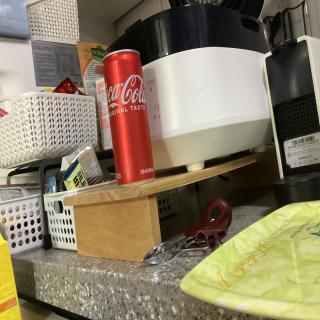cocacola: (98, 44, 162, 191)
